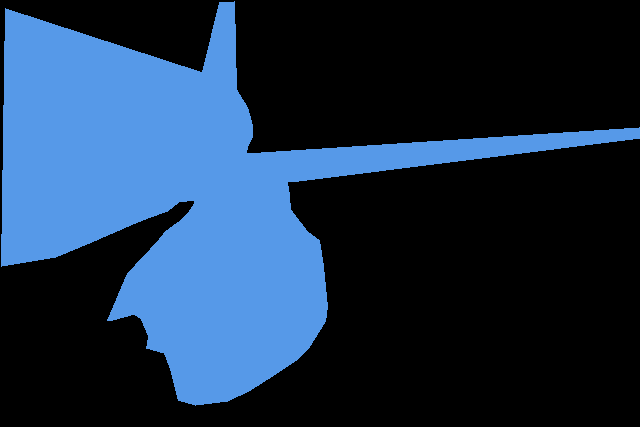Airplane: (1, 1, 640, 405)
